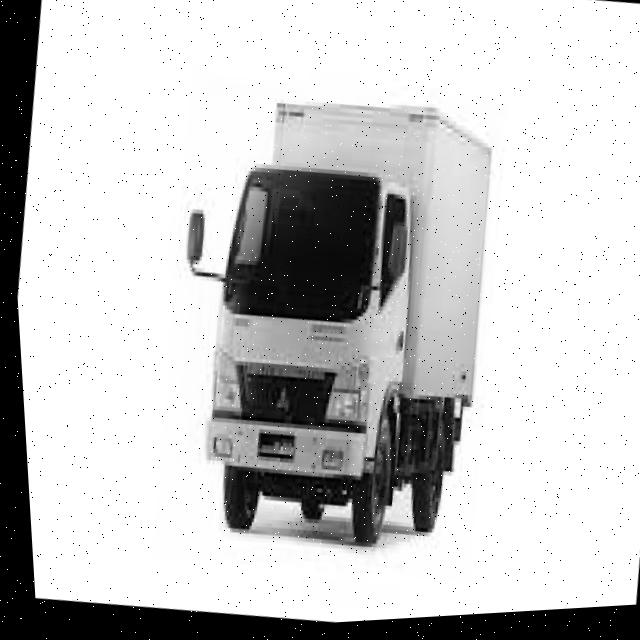truck: (136, 127, 454, 570)
